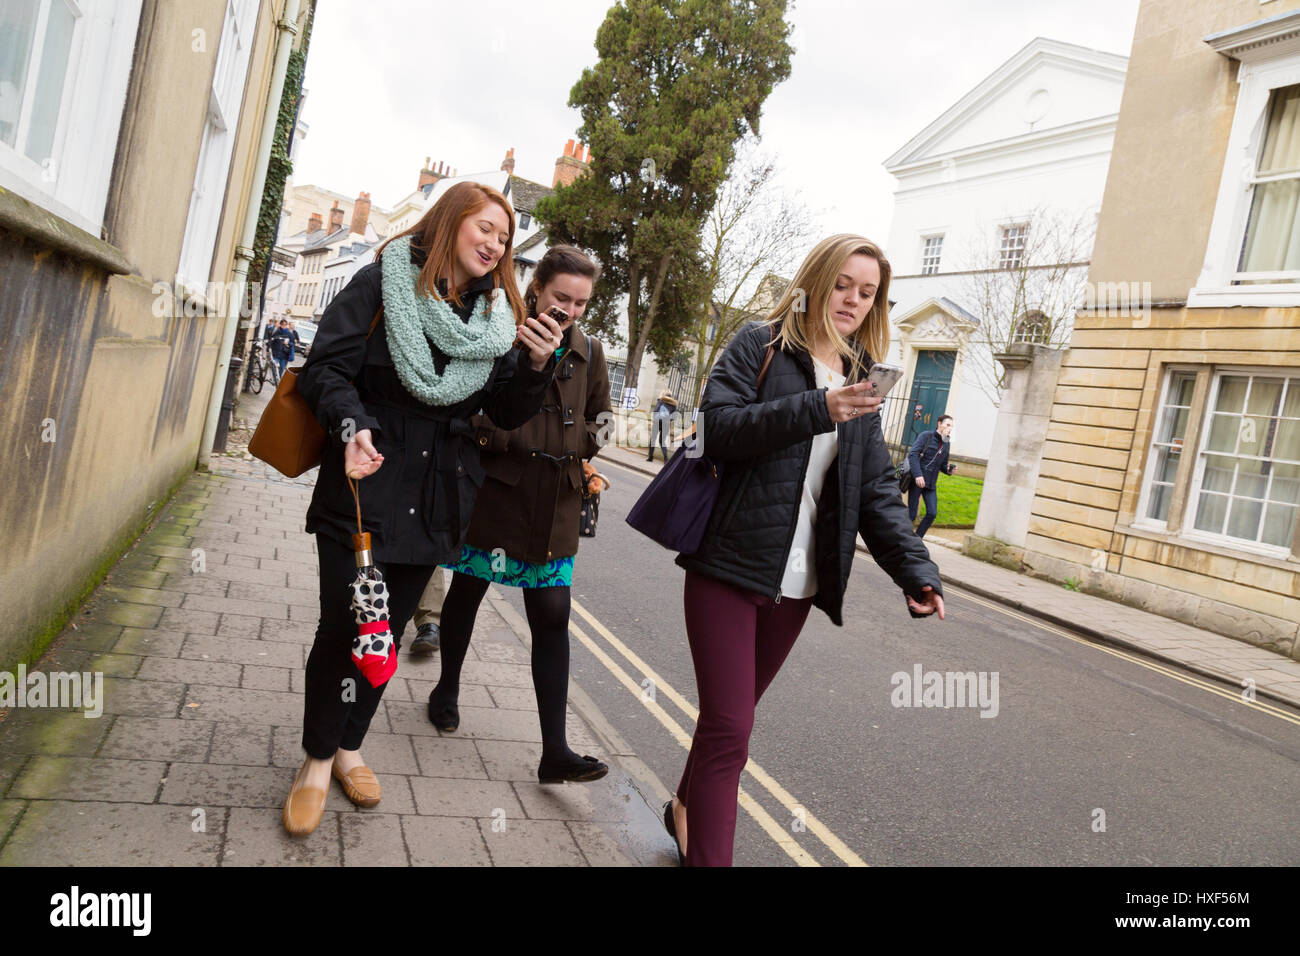person: (661, 229, 951, 877), (241, 179, 524, 838), (424, 241, 611, 784), (897, 408, 961, 544), (271, 313, 303, 388)
